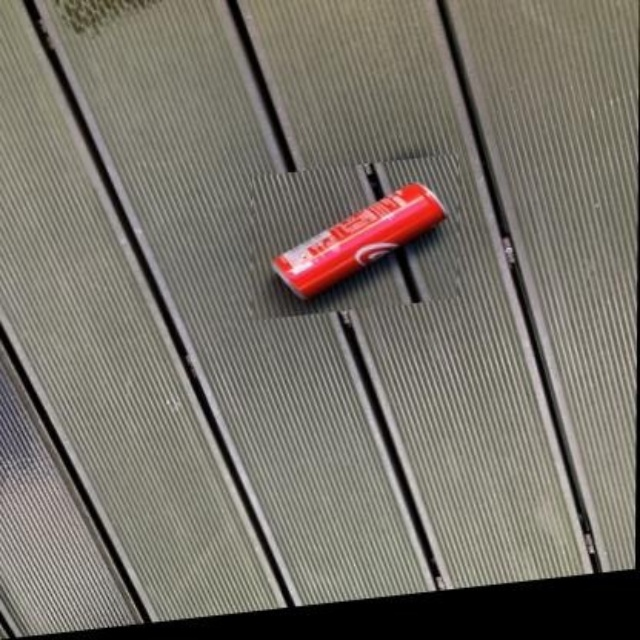trash: (271, 183, 443, 298)
